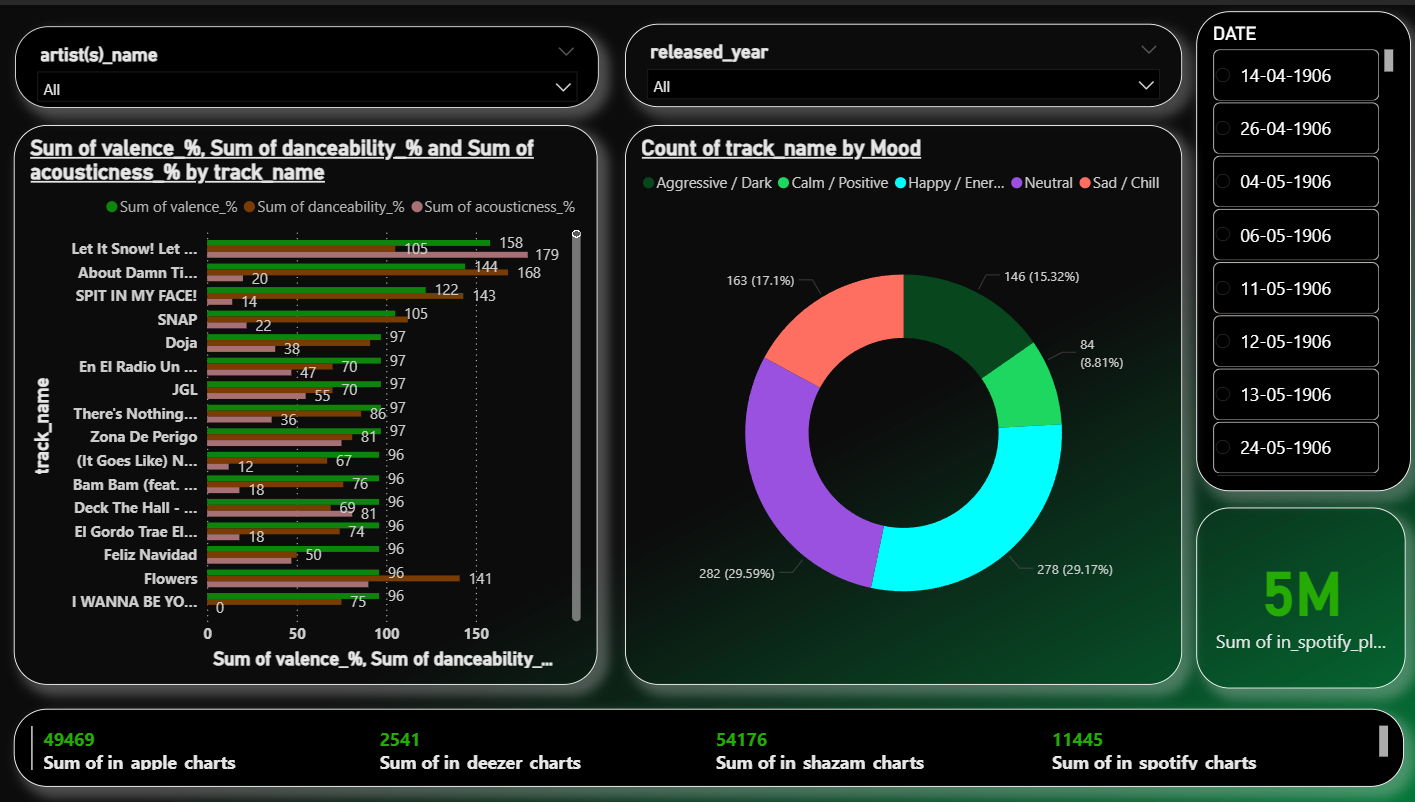

This screenshot's page, from the dashboard's own definition file:
{"tool":"powerbi","page":{"name":"Page 2","canvas":[1280,720],"ordinal":1},"visuals":[{"type":"card","fields":{"Values":["Sum(spotify-2023.in_spotify_playlists)"]},"box":[1078.2,453,188.5,163.1],"z":0},{"type":"slicer","fields":{"Values":["spotify-2023.artist(s)_name"]},"box":[13,18.8,526.6,73.6],"z":1000},{"type":"slicer","fields":{"Values":["spotify-2023.released_year"]},"box":[564.1,17.3,502.1,75],"z":2000},{"type":"listSlicer","fields":{"Values":["spotify-2023.DATE"]},"box":[1078.2,5.4,193.9,433.1],"z":3000},{"type":"multiRowCard","fields":{"Values":["Sum(spotify-2023.in_apple_charts)","Sum(spotify-2023.in_deezer_charts)","Sum(spotify-2023.in_shazam_charts)","Sum(spotify-2023.in_spotify_charts)"]},"box":[12.7,634.2,1253.9,70.7],"z":4000},{"type":"clusteredBarChart","fields":{"Category":["spotify-2023.track_name"],"Y":["Sum(spotify-2023.valence_%)","Sum(spotify-2023.danceability_%)","Sum(spotify-2023.acousticness_%)"]},"box":[12.4,108.2,526.2,505],"z":5000},{"type":"donutChart","fields":{"Category":["spotify-2023.Mood"],"Y":["CountNonNull(spotify-2023.track_name)"]},"box":[564,108,502,505],"z":5001}]}

Visuals, with their boxes in screenshot pixels (x1, y1, x2, y2), scaled from the page's 1280x720 canvas onto the 1415x802 screenshot:
card - Sum(spotify-2023.in_spotify_playlists): <region>1192, 505, 1400, 686</region>
slicer - spotify-2023.artist(s)_name: <region>14, 21, 597, 103</region>
slicer - spotify-2023.released_year: <region>624, 19, 1179, 103</region>
listSlicer - spotify-2023.DATE: <region>1192, 6, 1406, 488</region>
multiRowCard - Sum(spotify-2023.in_apple_charts) x Sum(spotify-2023.in_deezer_charts): <region>14, 706, 1400, 785</region>
clusteredBarChart - spotify-2023.track_name x Sum(spotify-2023.valence_%): <region>14, 121, 595, 683</region>
donutChart - spotify-2023.Mood x CountNonNull(spotify-2023.track_name): <region>623, 120, 1178, 683</region>
